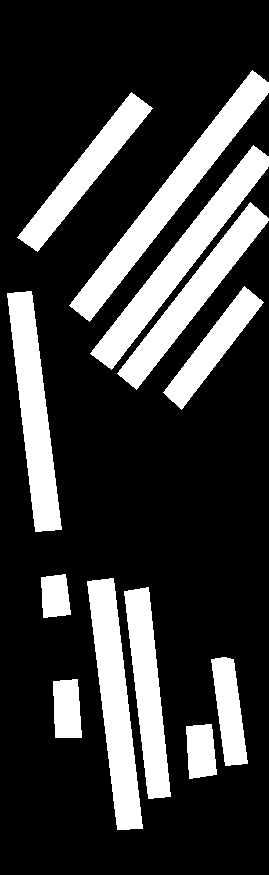parkingspot: (69, 70, 269, 321), (90, 145, 269, 369), (117, 202, 269, 389), (17, 92, 152, 251), (87, 578, 142, 829), (7, 291, 61, 531), (163, 286, 263, 409), (124, 587, 170, 798), (211, 657, 247, 765), (53, 679, 81, 737), (186, 724, 216, 778), (41, 574, 70, 617)
